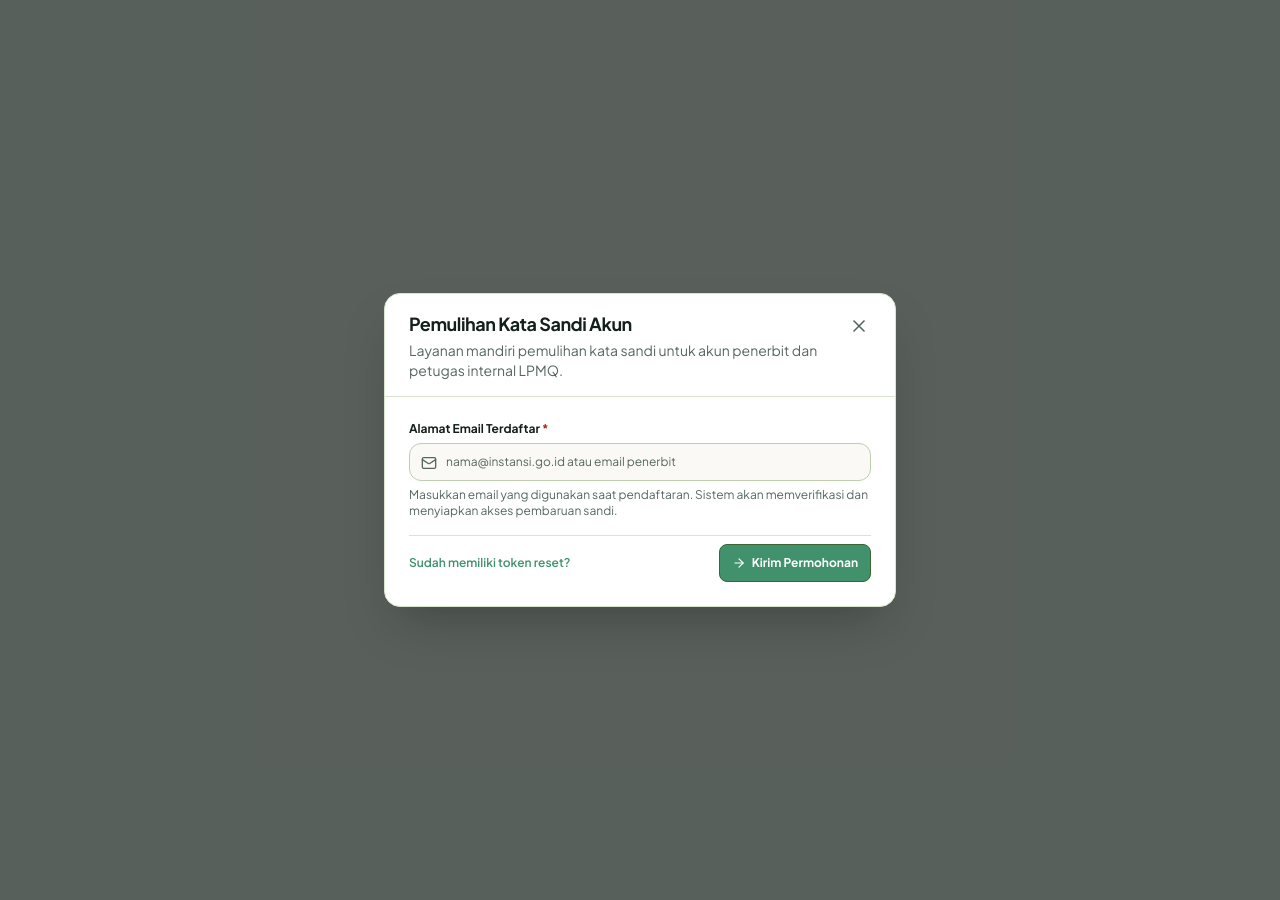
ForgotPasswordModal Security & UX › allows manual switch to reset step and validates password confirmation
// Klik link "Sudah memiliki token reset?"
Click the button "Sudah memiliki token reset?": (490, 563) x1=409 y1=555 x2=570 y2=571
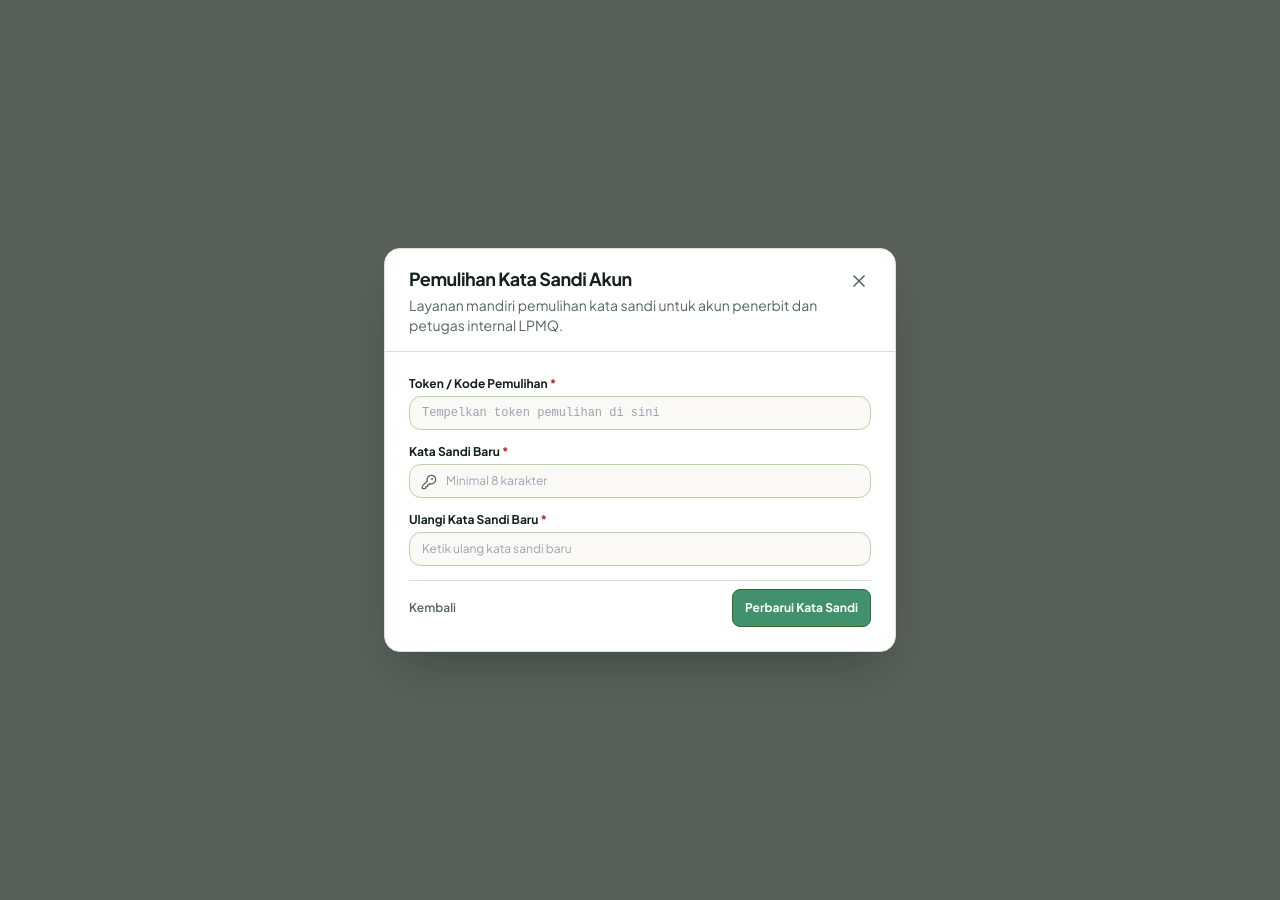
Check: the field labelled "Token / Kode Pemulihan *" is shown
Check: the password field labelled "Kata Sandi Baru *" is shown, box x1=409 y1=464 x2=871 y2=498
Check: the password field labelled "Ulangi Kata Sandi Baru *" is shown, box x1=409 y1=532 x2=871 y2=566
// Uji validasi konfirmasi kata sandi tidak cocok
In the field labelled "Token / Kode Pemulihan *": (640, 413) x1=409 y1=396 x2=871 y2=430, type "token-abc-123"
In the password field labelled "Kata Sandi Baru *": (640, 481) x1=409 y1=464 x2=871 y2=498, type "Rahasia123"
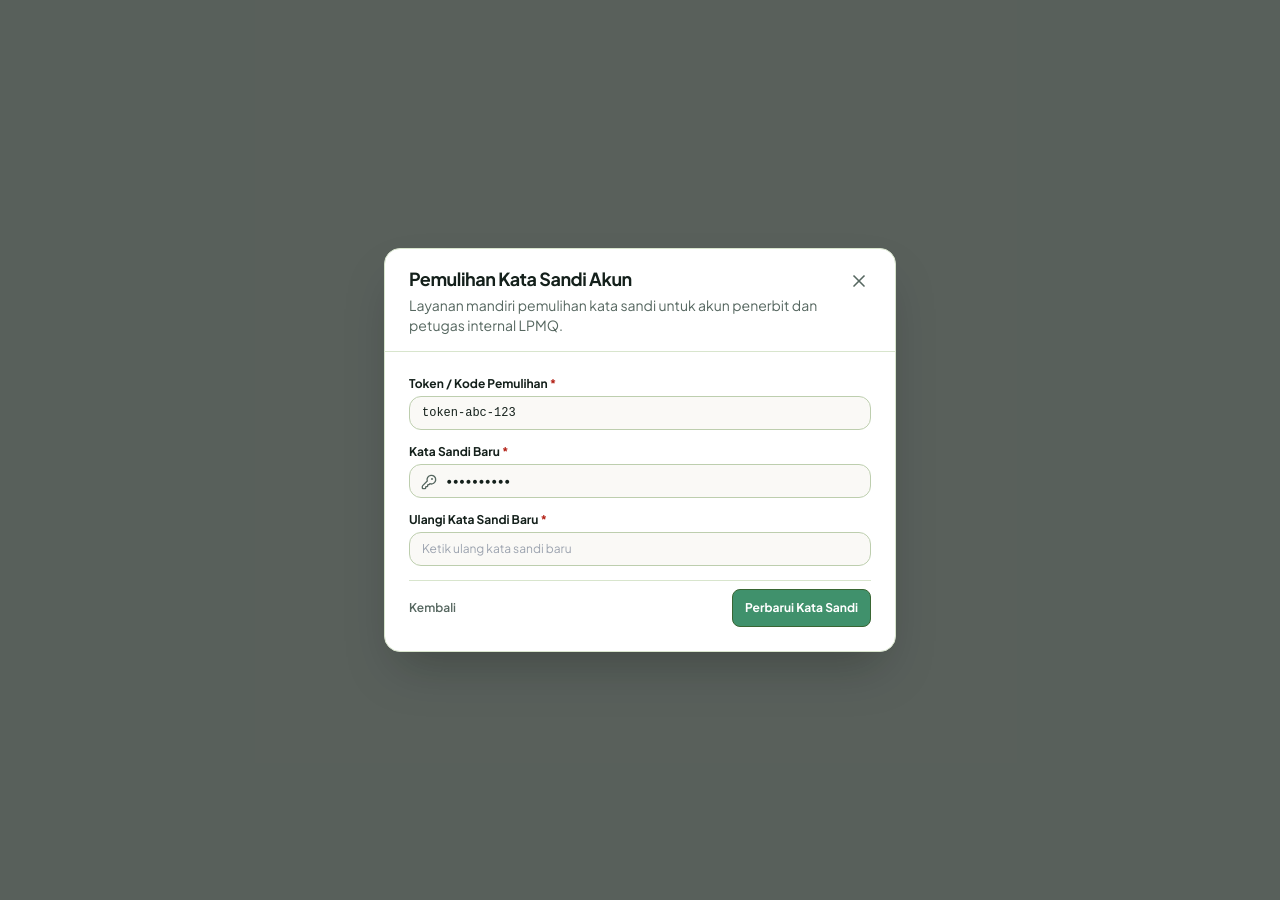
In the password field labelled "Ulangi Kata Sandi Baru *": (640, 549) x1=409 y1=532 x2=871 y2=566, type "Beda456"
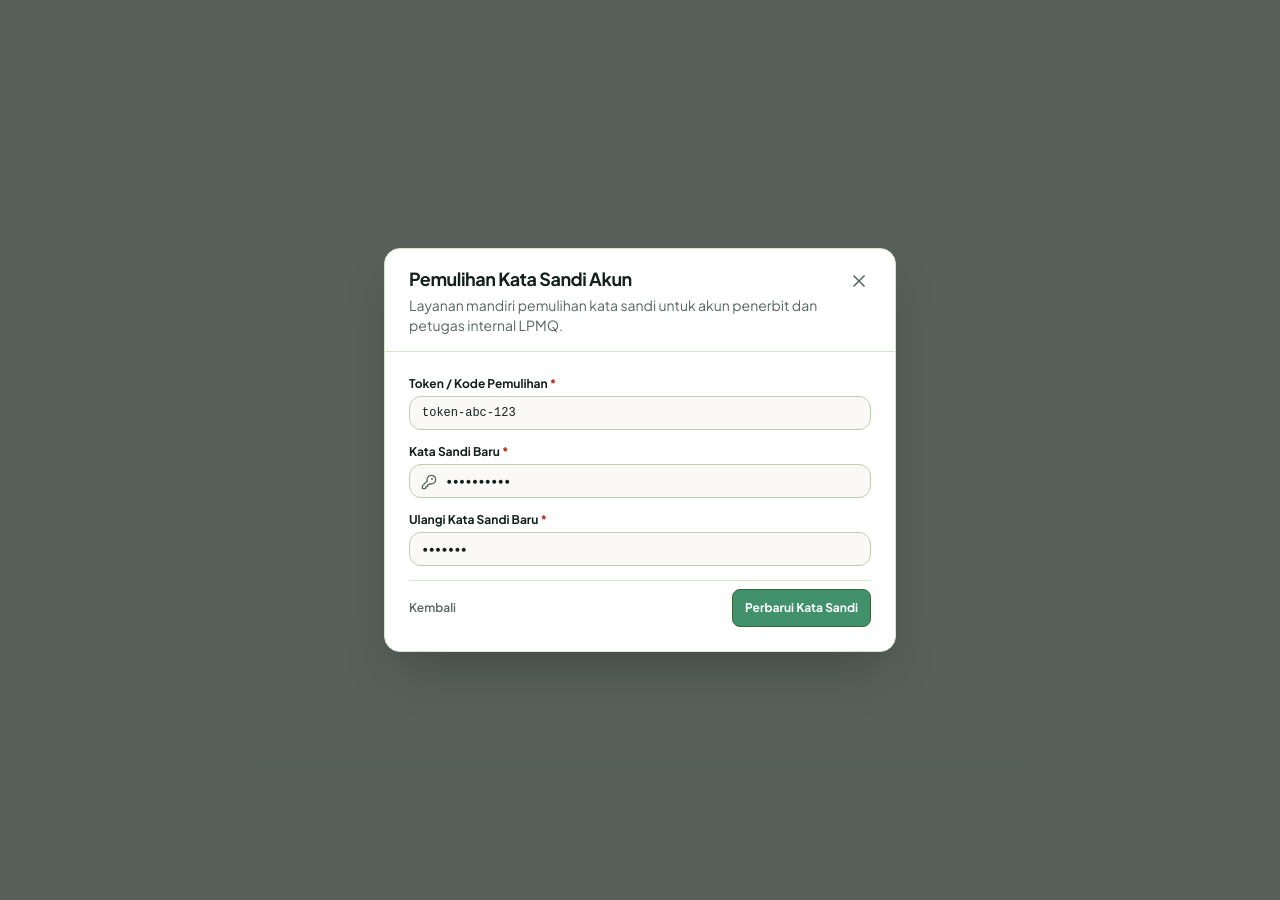
Click the button "Perbarui Kata Sandi": (802, 608) x1=732 y1=589 x2=871 y2=627
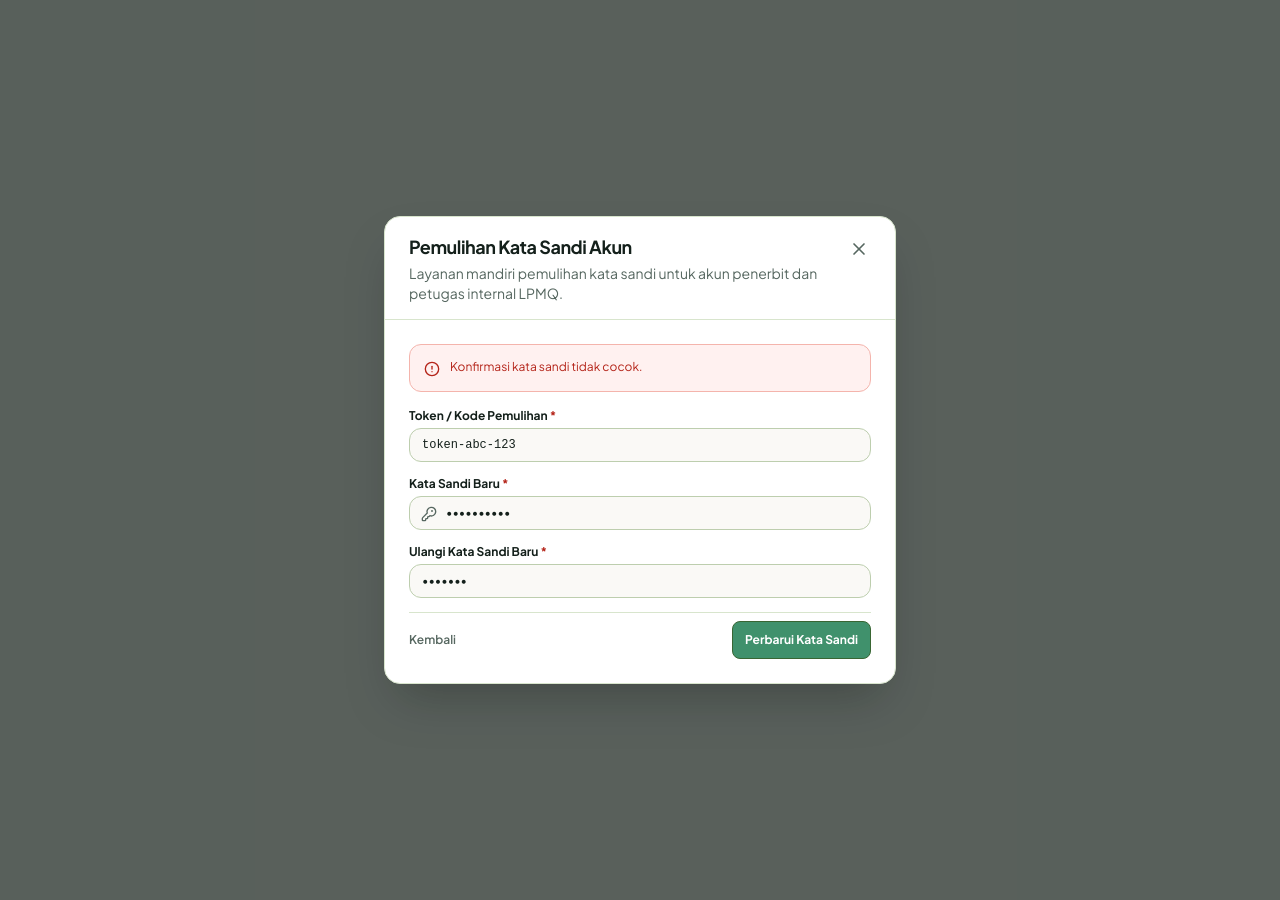
Check: the text "Konfirmasi kata sandi tidak cocok." is shown, box x1=450 y1=359 x2=642 y2=375
// Sukses jika kata sandi cocok
In the password field labelled "Ulangi Kata Sandi Baru *": (640, 581) x1=409 y1=564 x2=871 y2=598, type "Rahasia123"
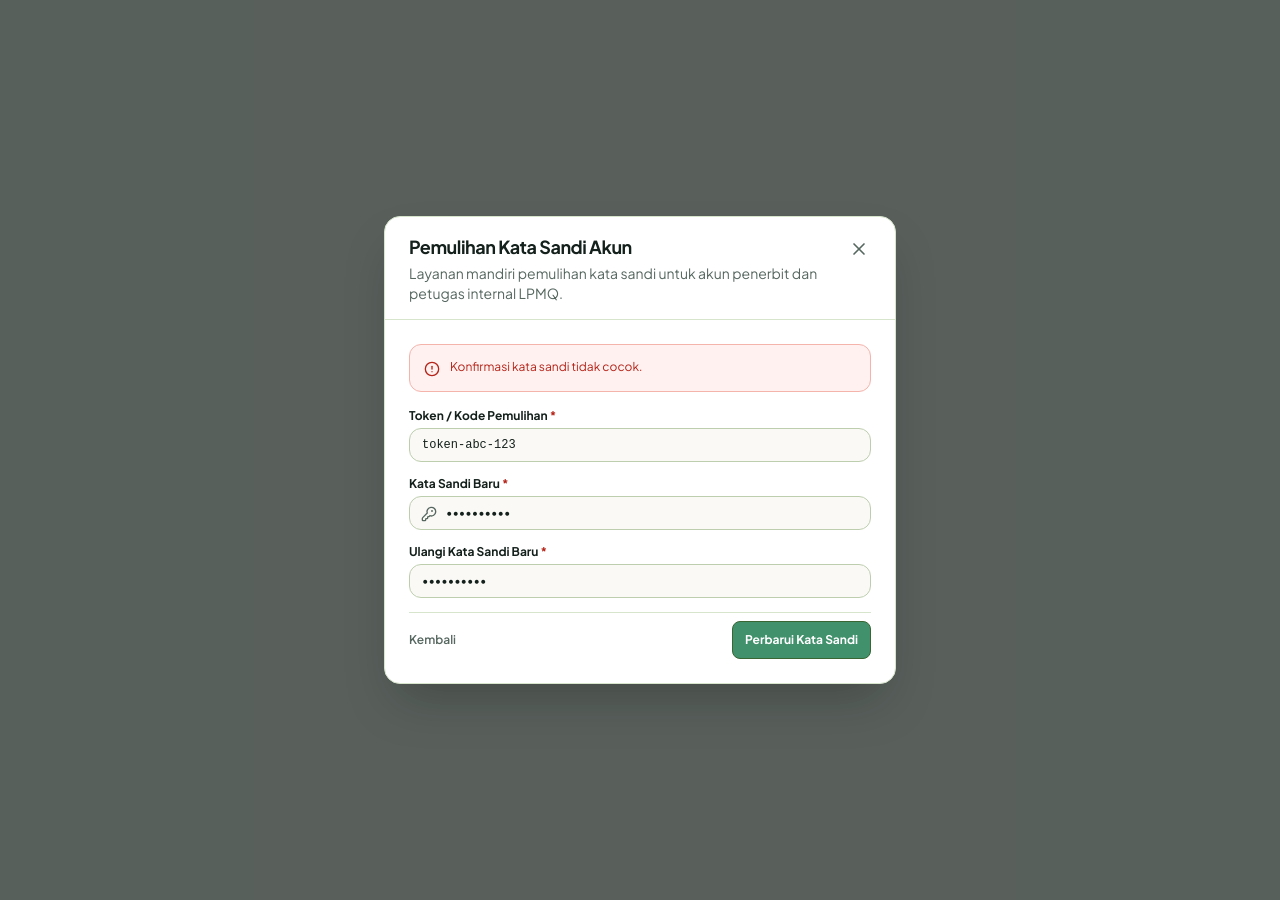
Click the button "Perbarui Kata Sandi": (802, 640) x1=732 y1=621 x2=871 y2=659
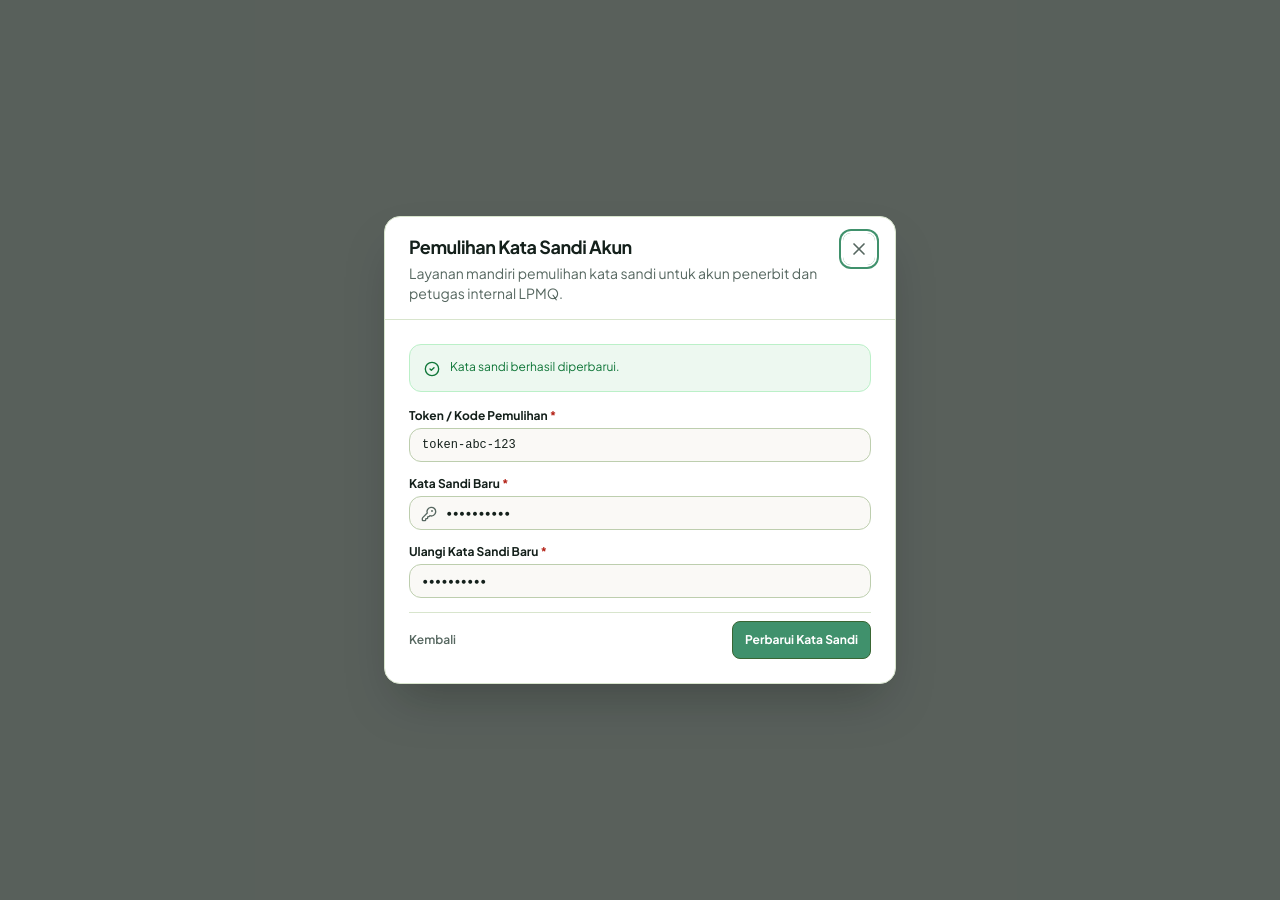
Check: the text "Kata sandi berhasil diperbarui." is shown, box x1=450 y1=359 x2=620 y2=375
